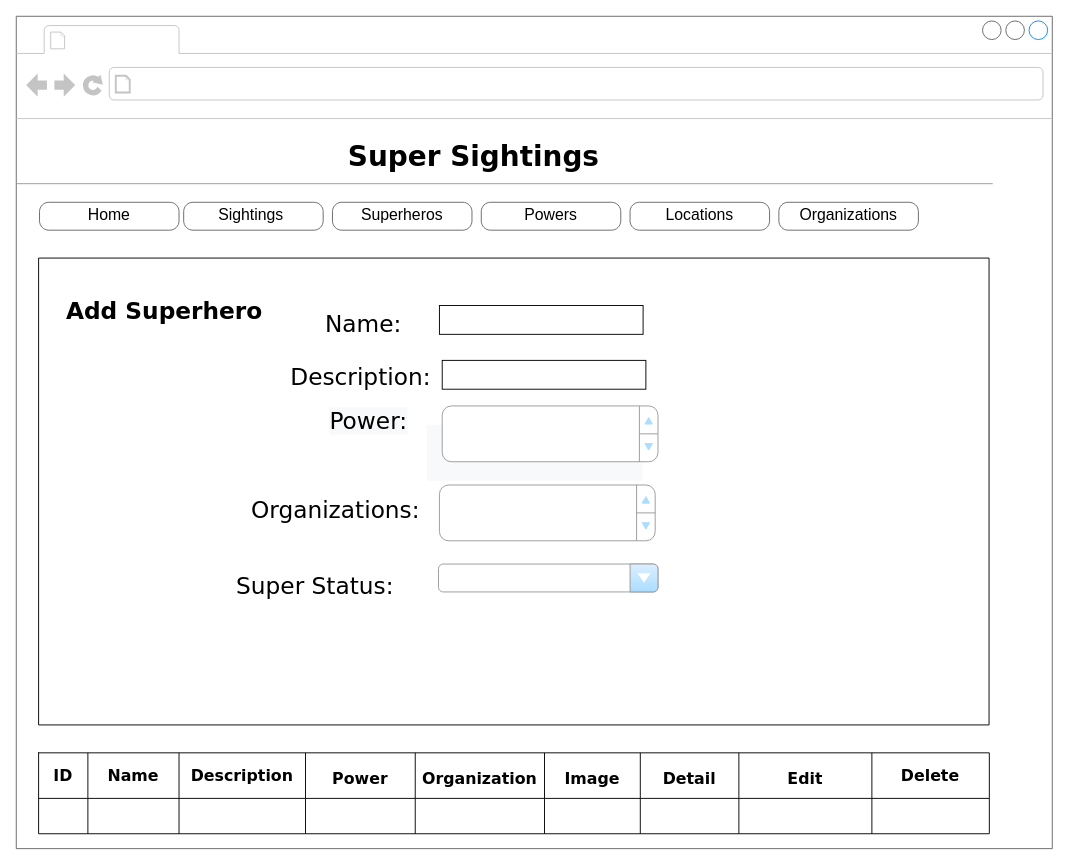
The diagram is 1069 pixels wide and 865 high, and some of its shapes have lost their labels. The centre of each missing label's shape, as x and y in pixels:
"https://localhost:8080/Superheros" goes at point (291, 83).
"Page 2" goes at point (122, 39).
"Superhero" goes at point (548, 577).
